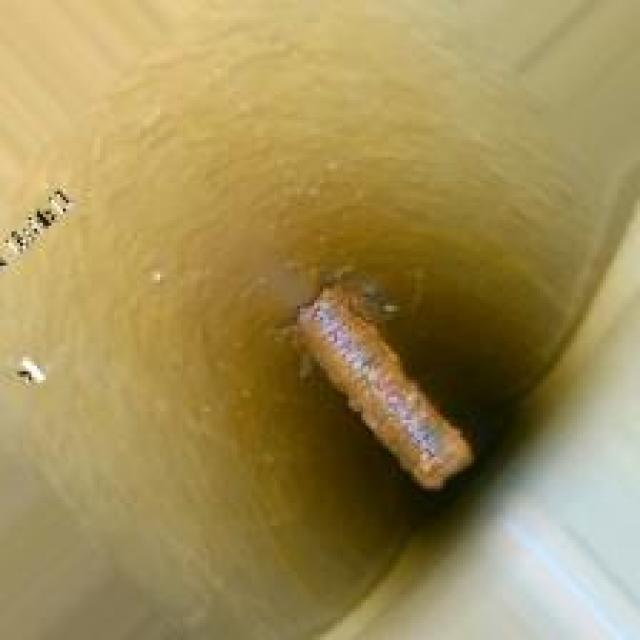ferrule: (280, 280, 483, 500)
